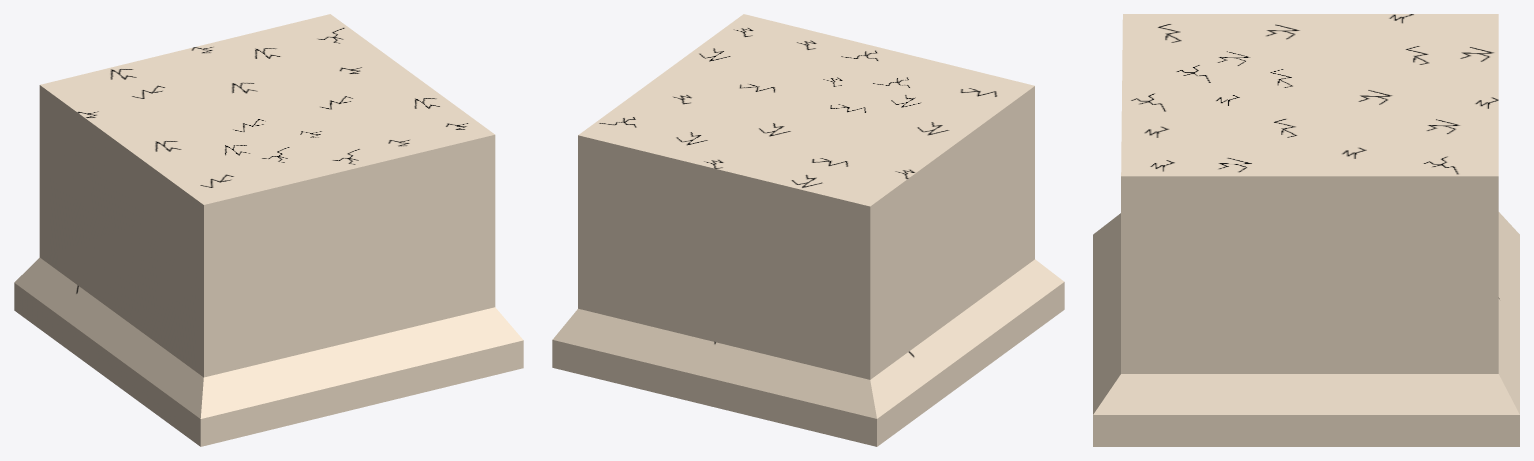
File: wooden_wall.glb
3 renders of one model, left to right at view 1: azimuth 30°, elevation 25°; view 2: azimuth 150°, elevation 25°; view 3: azimuth 270°, elevation 25°, orthographic. The views are drawn at different scales.
Parts seen in each view (by area): view 1: Cylinder; view 2: Cylinder; view 3: Cylinder.
Boxes of the visible parts, x1,y1,x2,y2 form: Cylinder: (14, 14, 523, 446); Cylinder: (552, 14, 1064, 446); Cylinder: (1093, 14, 1519, 446).
Bounding box in the file's own units: 1 × 0.6759 × 1.
1 material, 1 textured.
